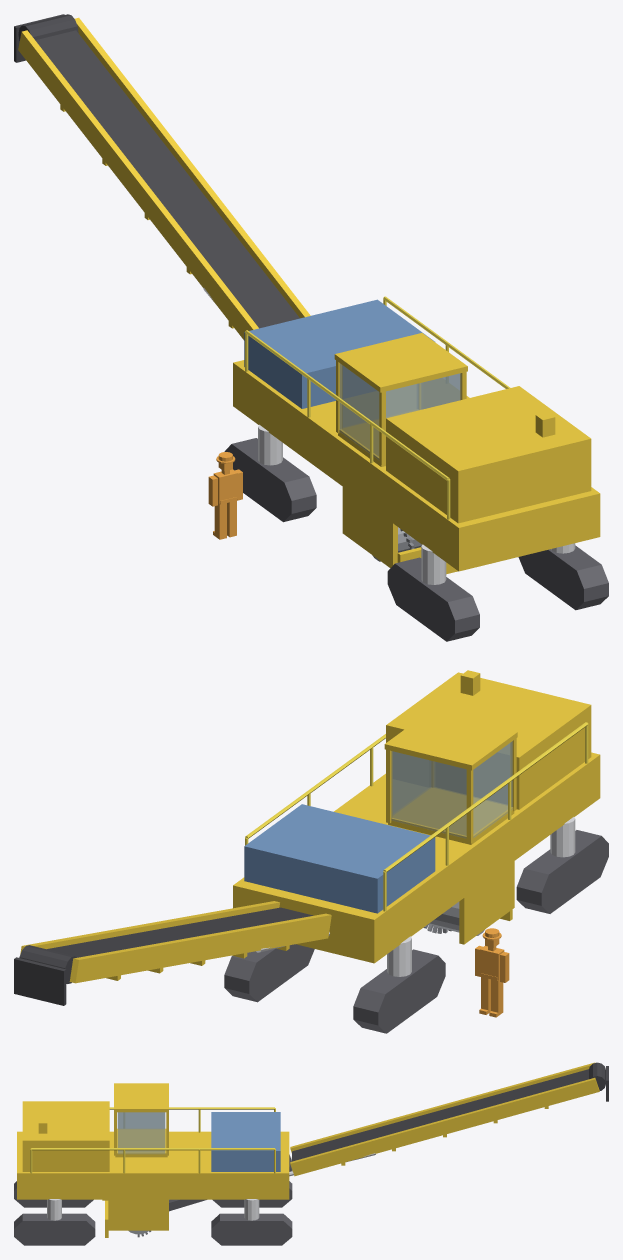
File: surface-miner.glb
The picture shows the model from 3 angles, top to bottom: view 1: azimuth 30°, elevation 25°; view 2: azimuth 150°, elevation 25°; view 3: azimuth 270°, elevation 25°; orthographic projection. The views are drawn at different scales.
Parts seen in each view (by area): view 1: engine_pack, chassis, conveyor_belt, crawler_units, discharge_conveyor, water_system, operator_cab, cab_glass, drum_housing, walkways_rails, scale_figure, height_columns; view 2: chassis, water_system, crawler_units, engine_pack, operator_cab, discharge_conveyor, cab_glass, conveyor_belt, drum_housing, walkways_rails, scale_figure, height_columns (+1 smaller); view 3: chassis, discharge_conveyor, engine_pack, crawler_units, water_system, conveyor_belt, operator_cab, drum_housing, cab_glass, walkways_rails, height_columns, primary_conveyor.
Part boxes in pixels (x1,y1,x2,y2): engine_pack: (386, 386, 591, 523); chassis: (233, 360, 600, 571); conveyor_belt: (14, 14, 299, 328); crawler_units: (224, 438, 608, 641); discharge_conveyor: (18, 17, 310, 340); water_system: (244, 299, 434, 408); operator_cab: (334, 333, 467, 466); cab_glass: (339, 363, 461, 459); drum_housing: (342, 487, 457, 574); walkways_rails: (245, 296, 510, 519); scale_figure: (208, 452, 242, 539); height_columns: (258, 424, 575, 584); chassis: (233, 752, 600, 963); water_system: (244, 804, 435, 913); crawler_units: (224, 830, 608, 1033); engine_pack: (386, 670, 591, 809); operator_cab: (384, 710, 517, 844); discharge_conveyor: (20, 901, 331, 983); cab_glass: (391, 741, 512, 838); conveyor_belt: (14, 907, 313, 1005); drum_housing: (459, 861, 514, 944); walkways_rails: (245, 722, 588, 911); scale_figure: (475, 928, 509, 1017); height_columns: (387, 817, 575, 976); chassis: (17, 1131, 289, 1199); discharge_conveyor: (290, 1062, 599, 1176); engine_pack: (22, 1101, 109, 1171); crawler_units: (14, 1181, 292, 1245); water_system: (169, 1112, 280, 1199); conveyor_belt: (292, 1062, 608, 1161); operator_cab: (114, 1083, 168, 1157); drum_housing: (102, 1199, 168, 1237); cab_glass: (117, 1112, 165, 1153); walkways_rails: (30, 1107, 275, 1173); height_columns: (47, 1199, 259, 1220); primary_conveyor: (169, 1154, 292, 1211).
Bounding box in the file's own units: 5.42 × 5.87 × 20.52.
